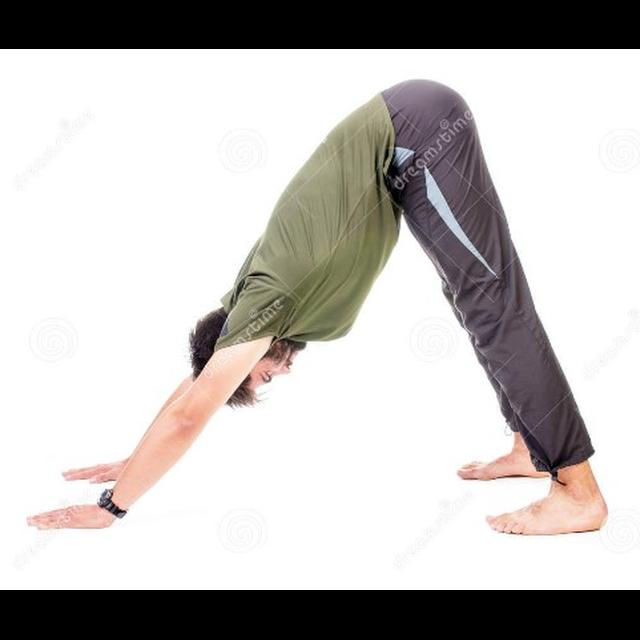Downward-Facing_Dog: (23, 74, 606, 538)
